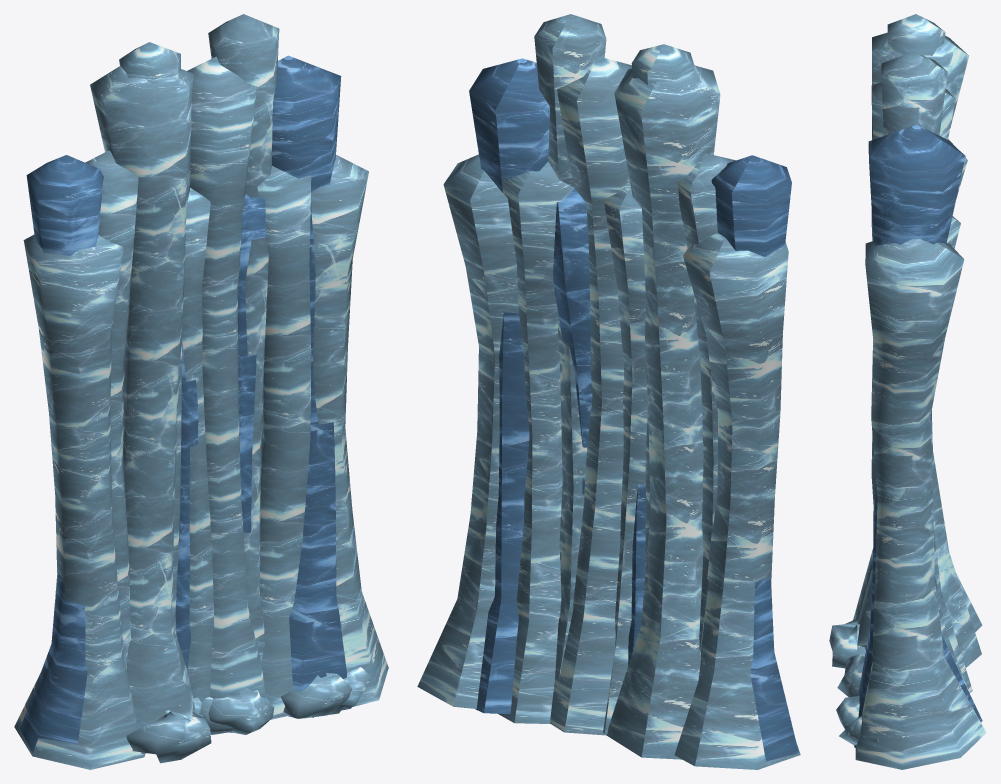
Rendered from cw_ice_column_c.glb.
The picture shows the model from 3 angles, left to right: view 1: azimuth 30°, elevation 25°; view 2: azimuth 150°, elevation 25°; view 3: azimuth 270°, elevation 25°; orthographic projection. The views are drawn at different scales.
Visible parts, largest first — view 1: cw_ice_column_c; view 2: cw_ice_column_c; view 3: cw_ice_column_c.
Part boxes in pixels (left/top/right/bottom): cw_ice_column_c: left=14, top=14, right=388, bottom=769; cw_ice_column_c: left=417, top=14, right=800, bottom=769; cw_ice_column_c: left=829, top=14, right=986, bottom=769.
Bounding box in the file's own units: 2.91 × 5.42 × 1.16.
Materials: 1 (1 with a texture image).
